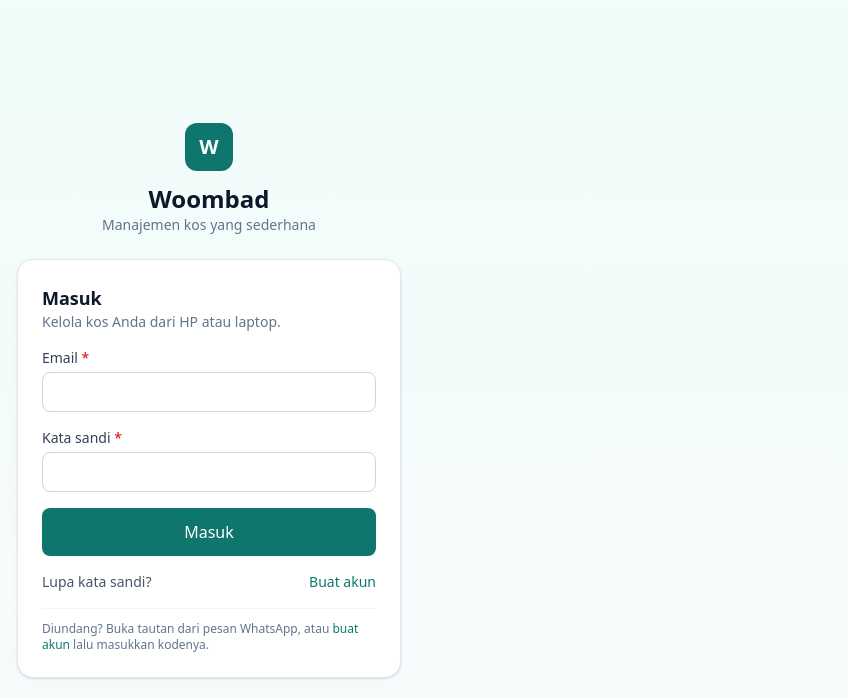
Test: LoginPage: Lupa kata sandi? › sends one request for a double tap
In the field labelled "Email *": (209, 392) [42,372,376,412], type "istri@gmail.com"
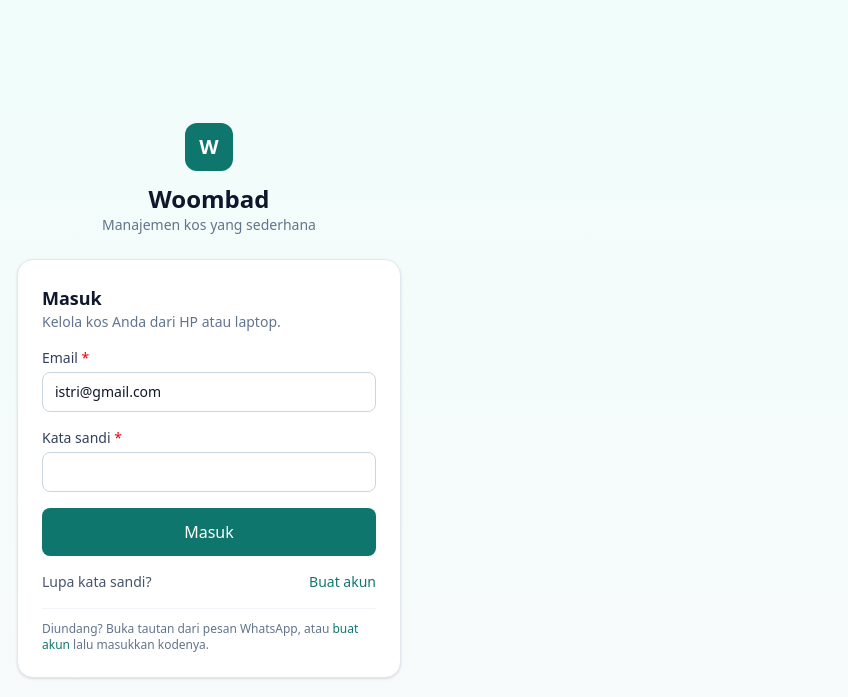
Click the button "Lupa kata sandi?": (97, 582) [42,572,152,592]
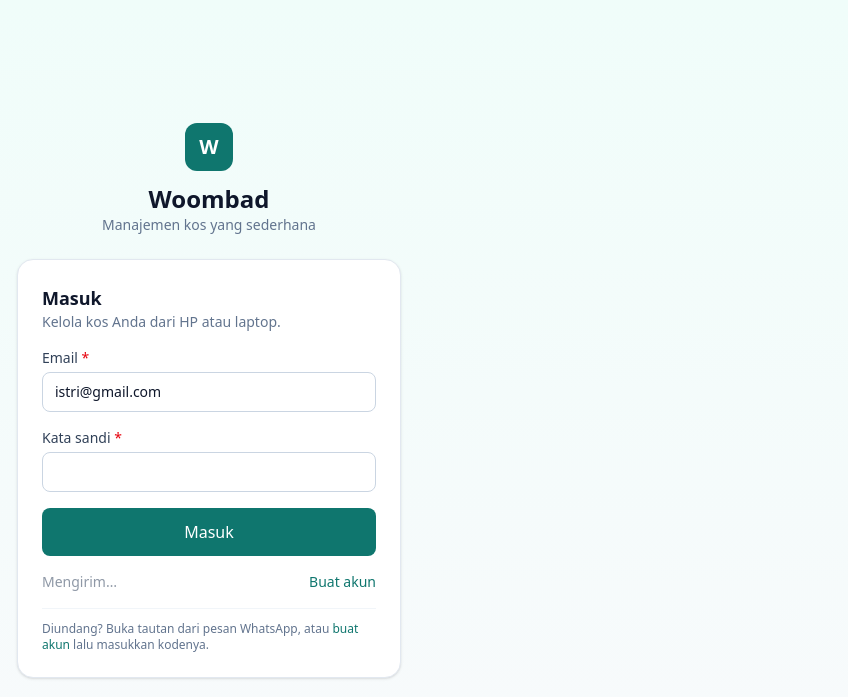
Click the button named "Lupa kata sandi?": (80, 582) [42,572,117,592]
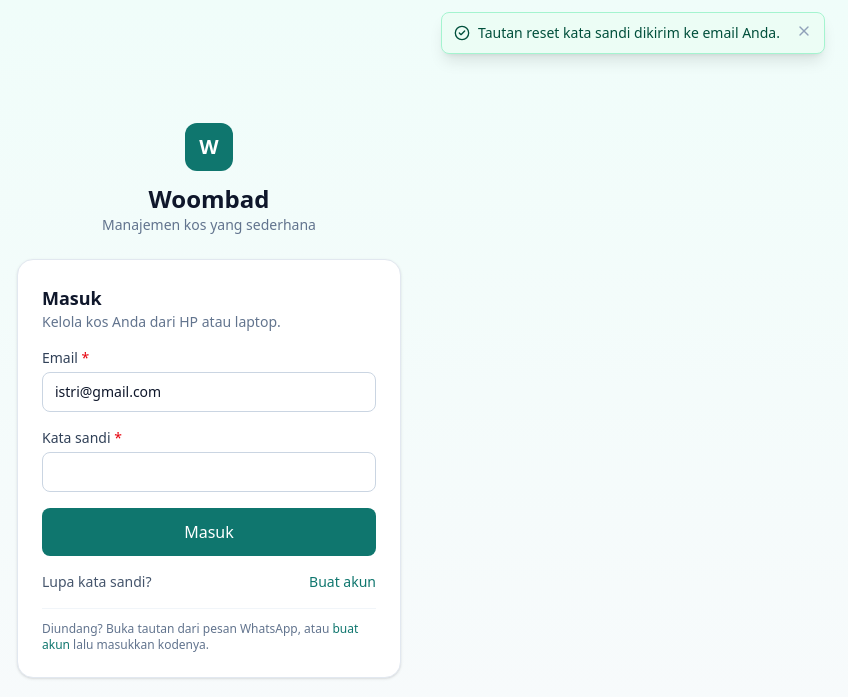
Expected: the text "Tautan reset kata sandi dikirim ke email Anda." is shown, [478,23,788,43]
